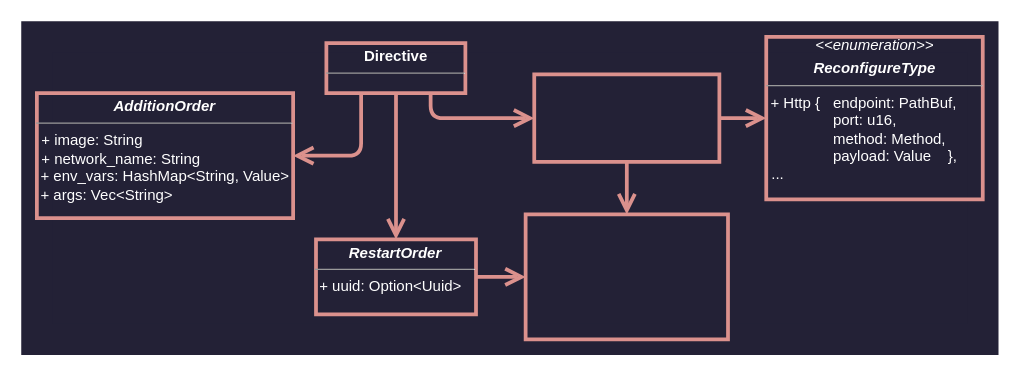
Some shapes in this 1020 by 376 pixel diagram are drawn without their labels. Here are the shapes that lost their labels. From the top down, the centre of each, then its label:
point (626, 117): Reconfigure Order + uuid: Option<Uuid>, + network_name: String
point (626, 276): <<enumeration>> QueryType + Http { endpoint: PathBuf, port: u16 }, ...
